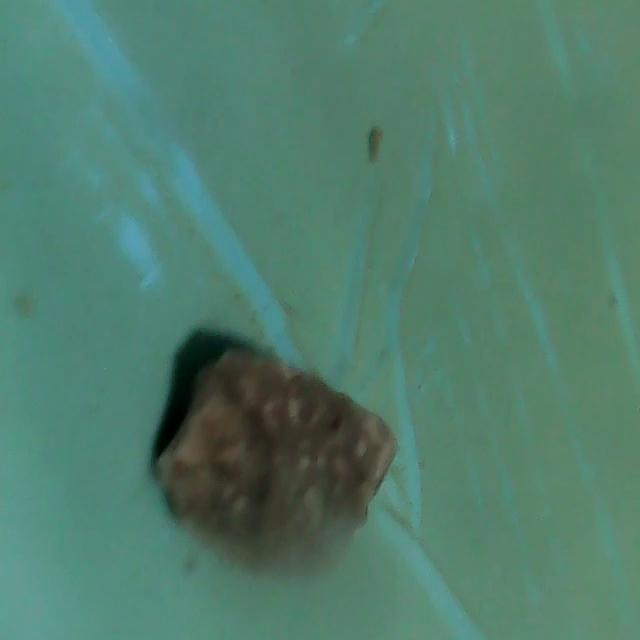rock: (141, 341, 409, 595)
